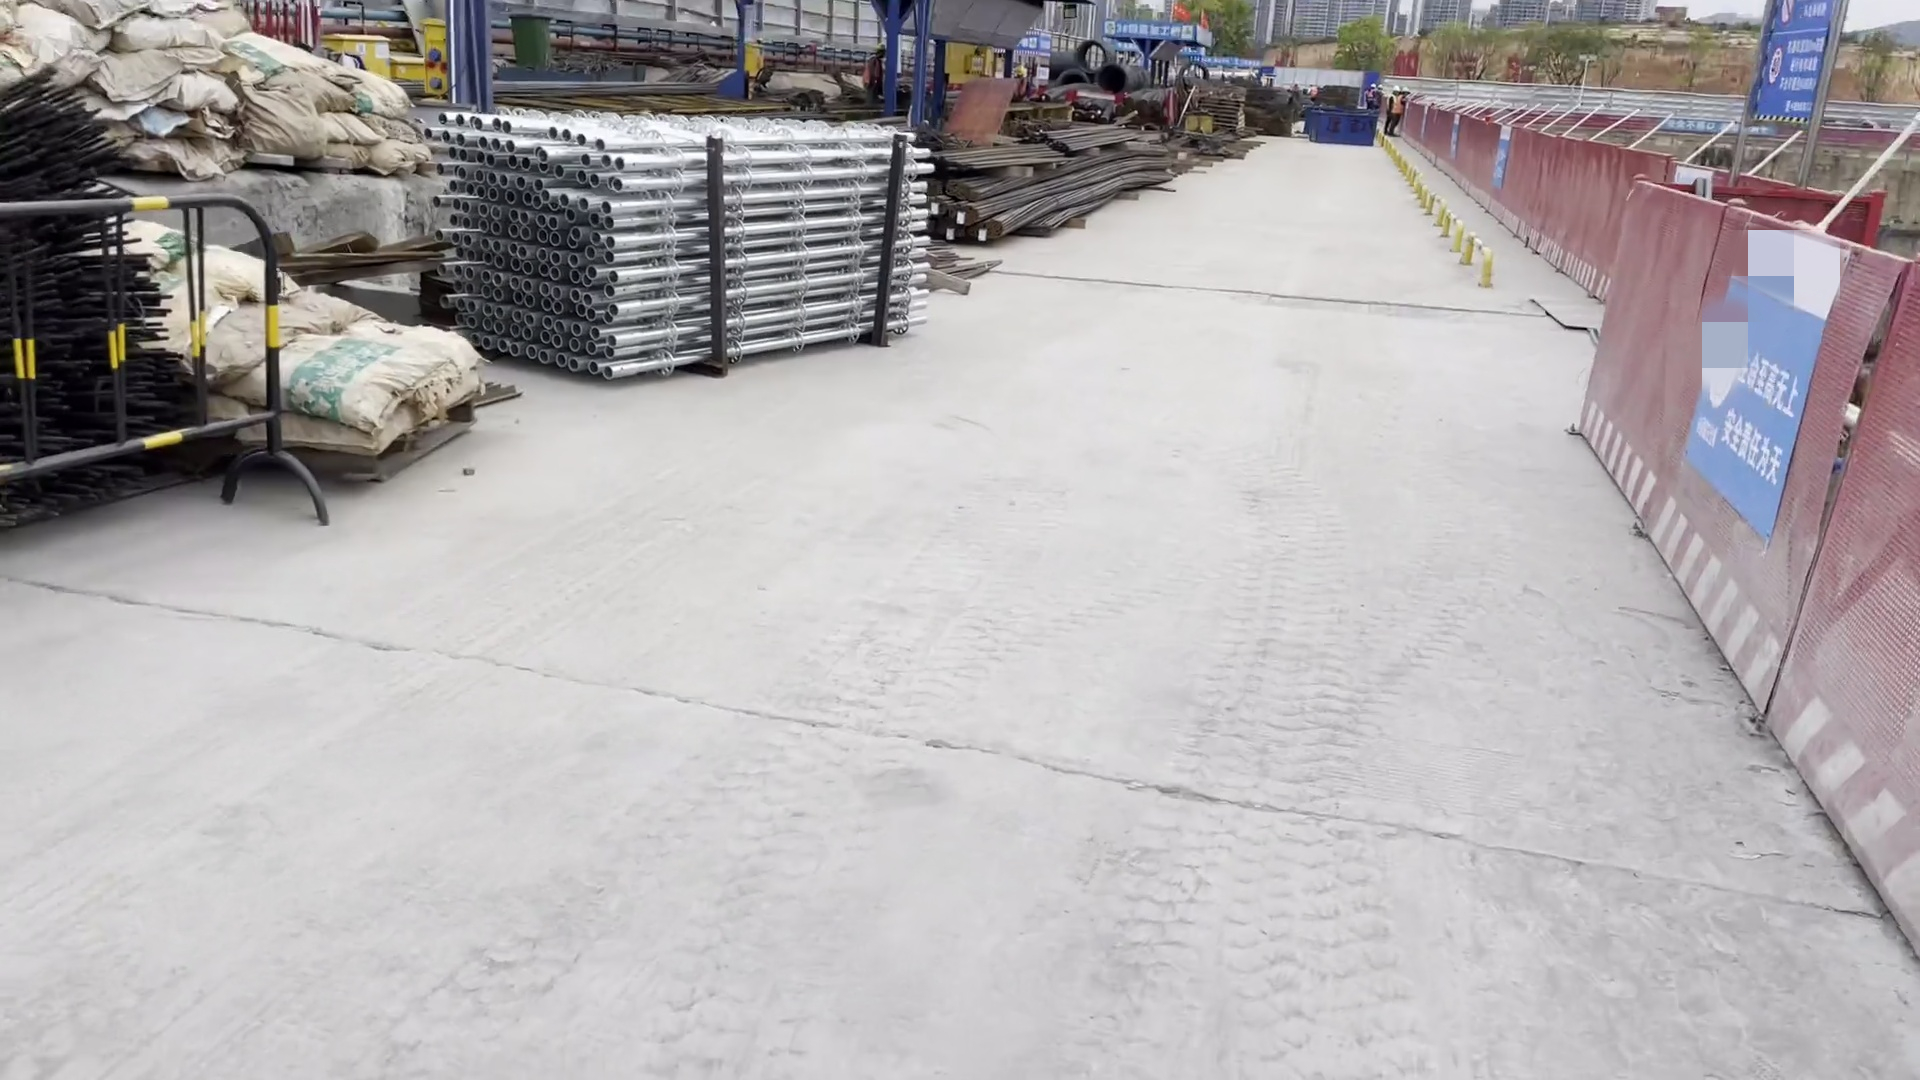ebox: (403, 11, 463, 97), (314, 34, 393, 83), (738, 45, 767, 86)
fence: (1562, 172, 1920, 962), (1400, 95, 1906, 382)
helmet: (1401, 86, 1409, 93), (1392, 86, 1399, 92), (1370, 83, 1376, 88), (1309, 82, 1315, 87), (1377, 84, 1383, 89)
hopper: (1306, 100, 1384, 146)
person: (1398, 87, 1409, 135), (1387, 87, 1398, 127), (1376, 84, 1384, 120), (1368, 84, 1376, 115), (1308, 82, 1316, 100)
rebar: (877, 109, 1191, 248)
scaffold: (428, 93, 922, 376)
slogan: (1713, 348, 1795, 494)
vest: (1395, 97, 1407, 115), (1387, 95, 1396, 112), (1310, 87, 1317, 97), (1369, 91, 1376, 101)
